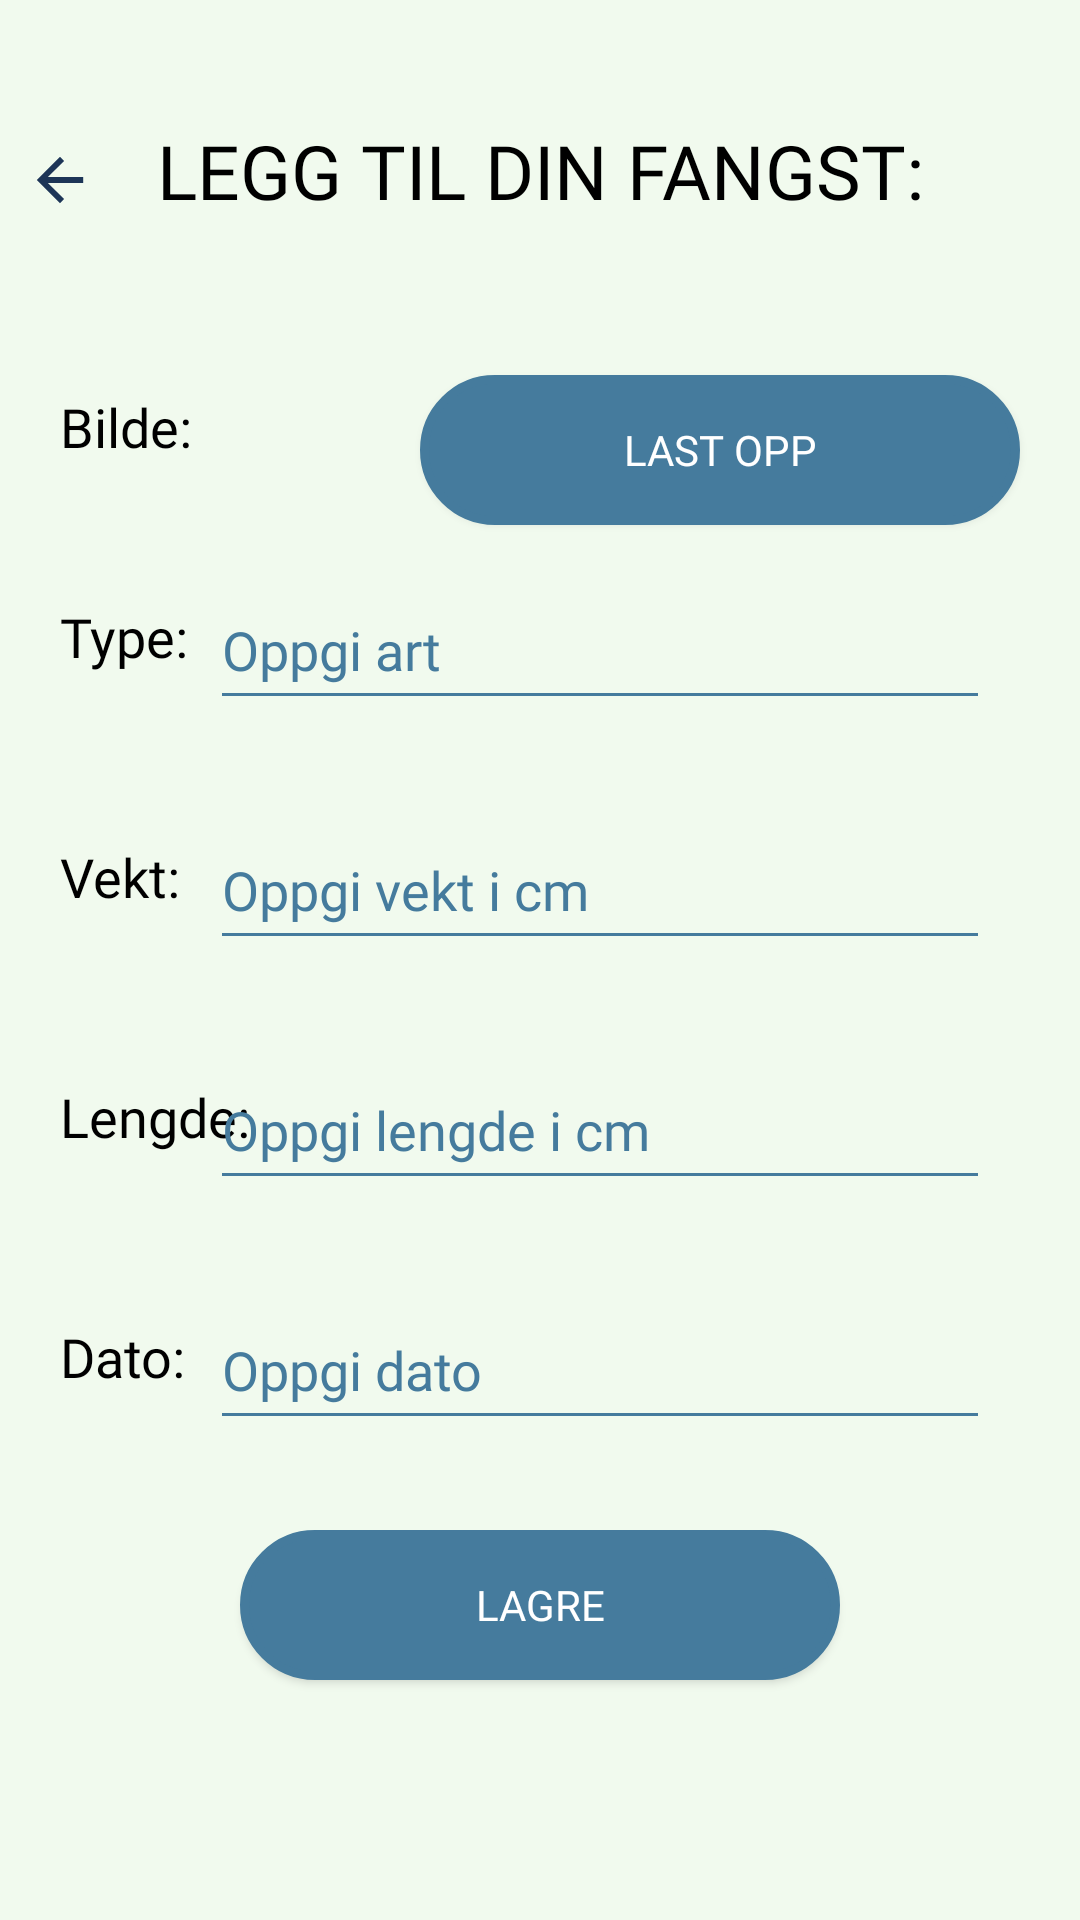

Locate icon controls on the screen. Image size 1080×1920, boxes as (x1, y1, x2, y2).
arrow: (37, 157, 84, 203)
